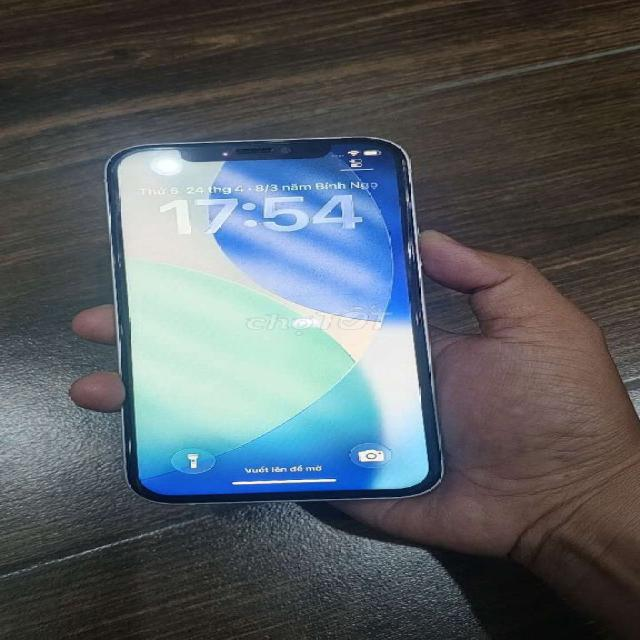gen_12_13: (89, 132, 453, 508)
